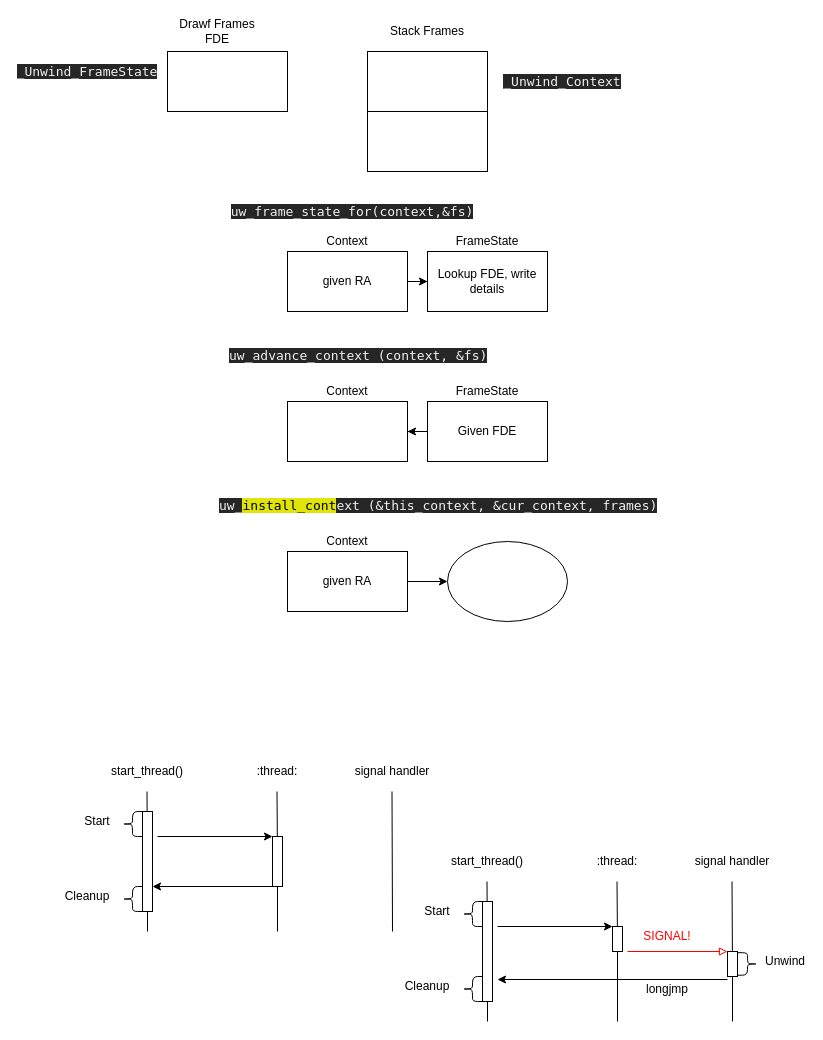
Image size: 823x1040. Some labels were removed from this diagram. Here are the shapes that lost their labels. From the top down, the box of each, then its label:
(286, 400, 408, 462): update RA
(446, 540, 568, 622): CPU Runtime
